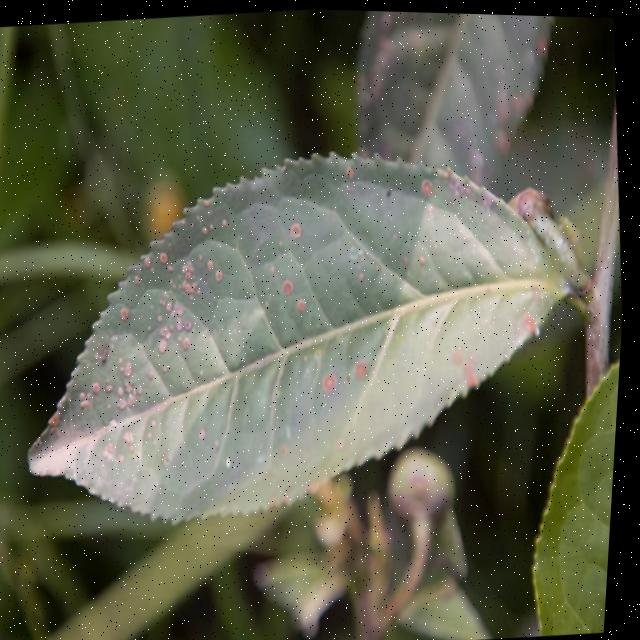Tea algae leaf spot: (57, 138, 559, 512)
